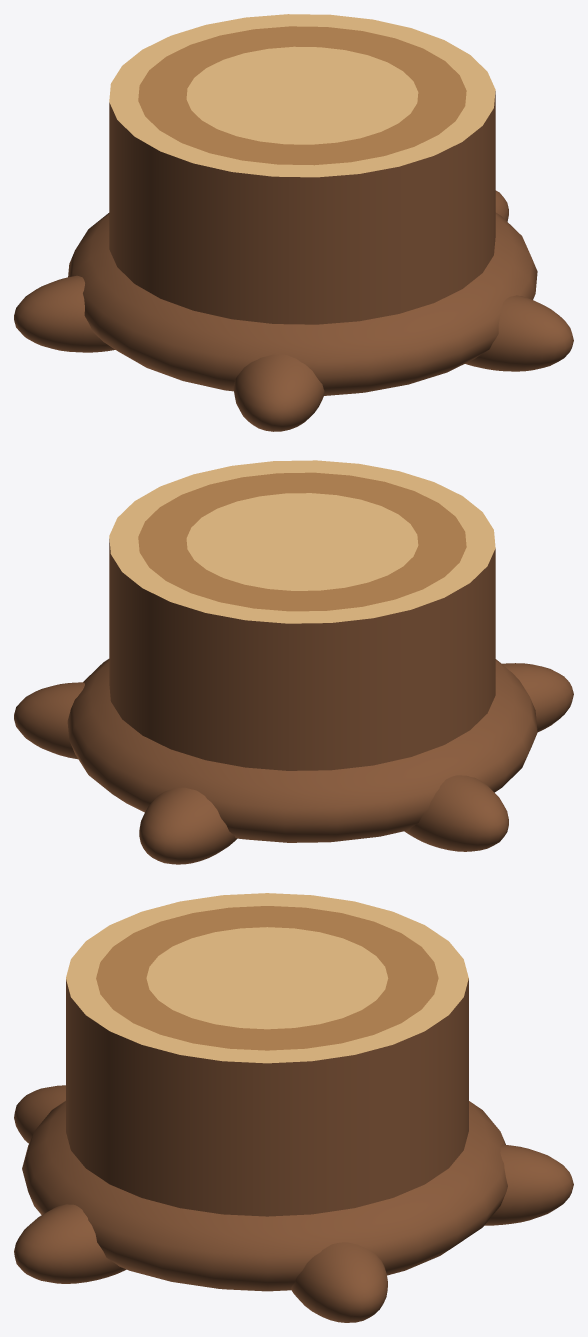
The model's file is stump.glb.
3 renders of one model, top to bottom at view 1: azimuth 30°, elevation 25°; view 2: azimuth 150°, elevation 25°; view 3: azimuth 270°, elevation 25°, orthographic. The views are drawn at different scales.
Parts seen in each view (by area): view 1: Stump; view 2: Stump; view 3: Stump.
Part boxes in pixels (x1,y1,x2,y2): Stump: [14, 14, 573, 431]; Stump: [14, 460, 573, 864]; Stump: [14, 893, 573, 1322].
Size of the model in its own units: 1.34 by 0.648 by 1.28.
